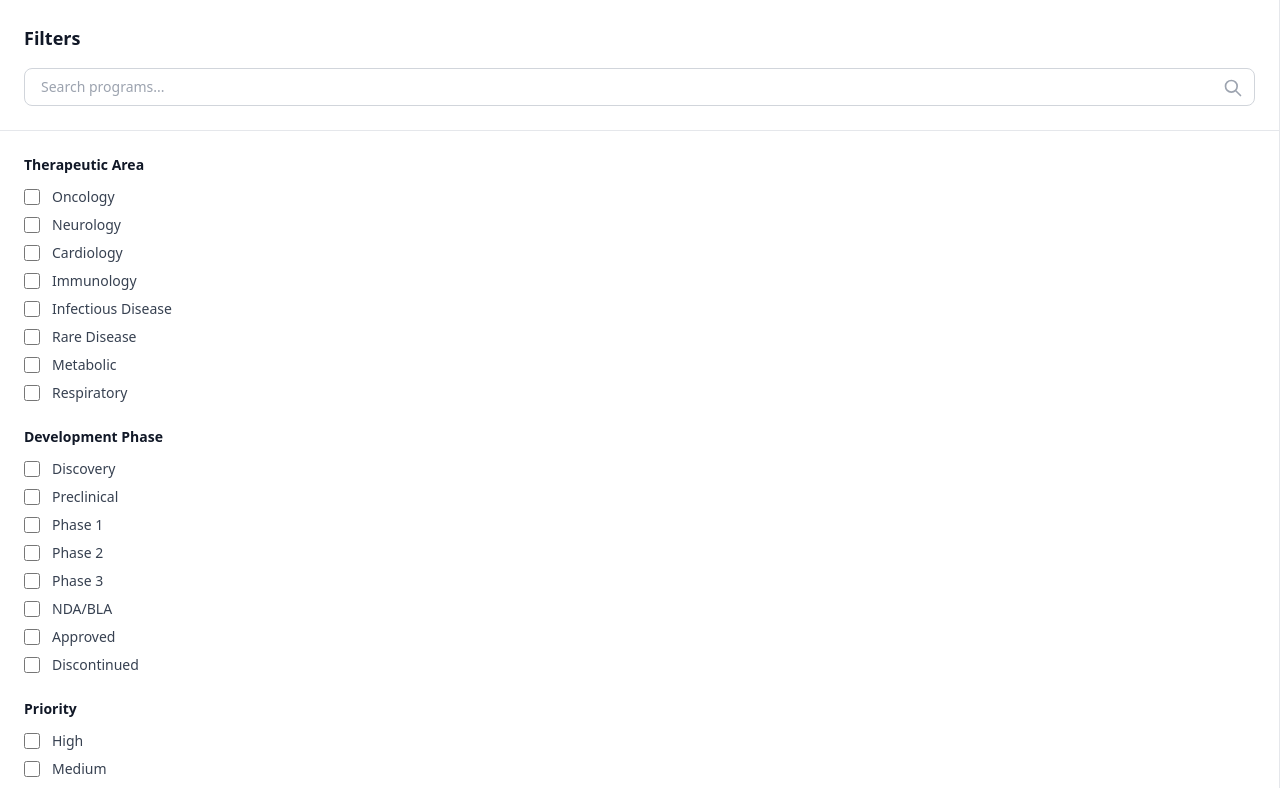
Scenario: FilterPanel all branches › toggles multiple therapeutic areas independently
# Toggle on
Click the text "Oncology": (83, 197) [52,187,115,207]
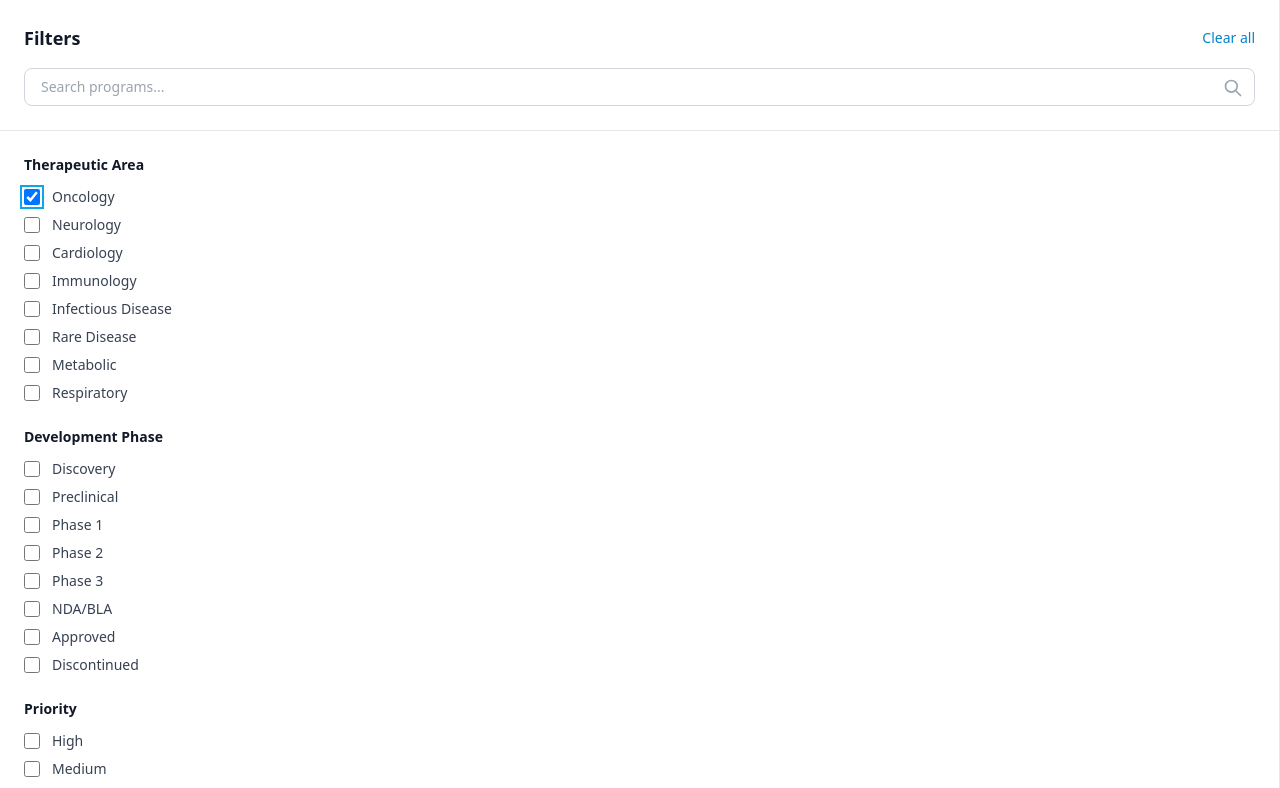
# Toggle on second
Click the text "Neurology": (86, 225) [52,215,121,235]
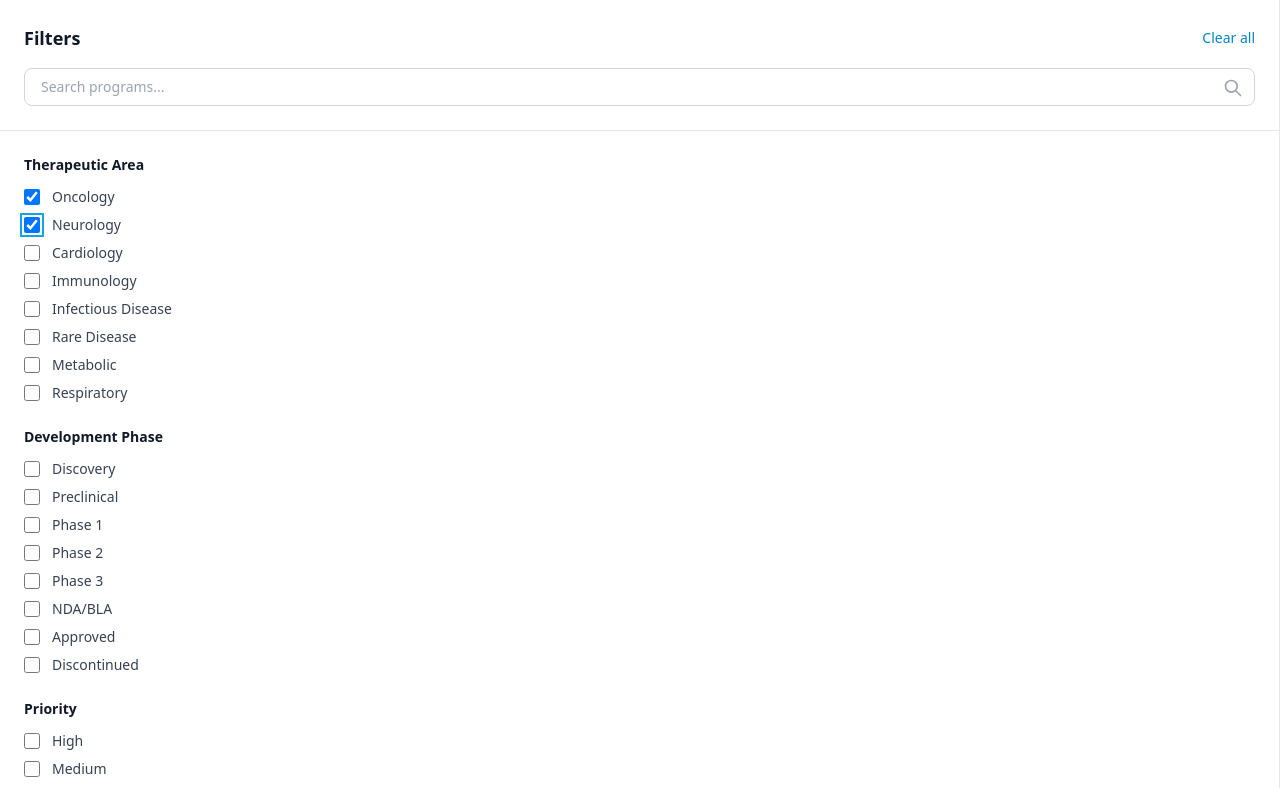
Check: the button "Clear all" is shown, box [1202,28,1255,48]
# Toggle off first
Click the text "Oncology": (83, 197) [52,187,115,207]
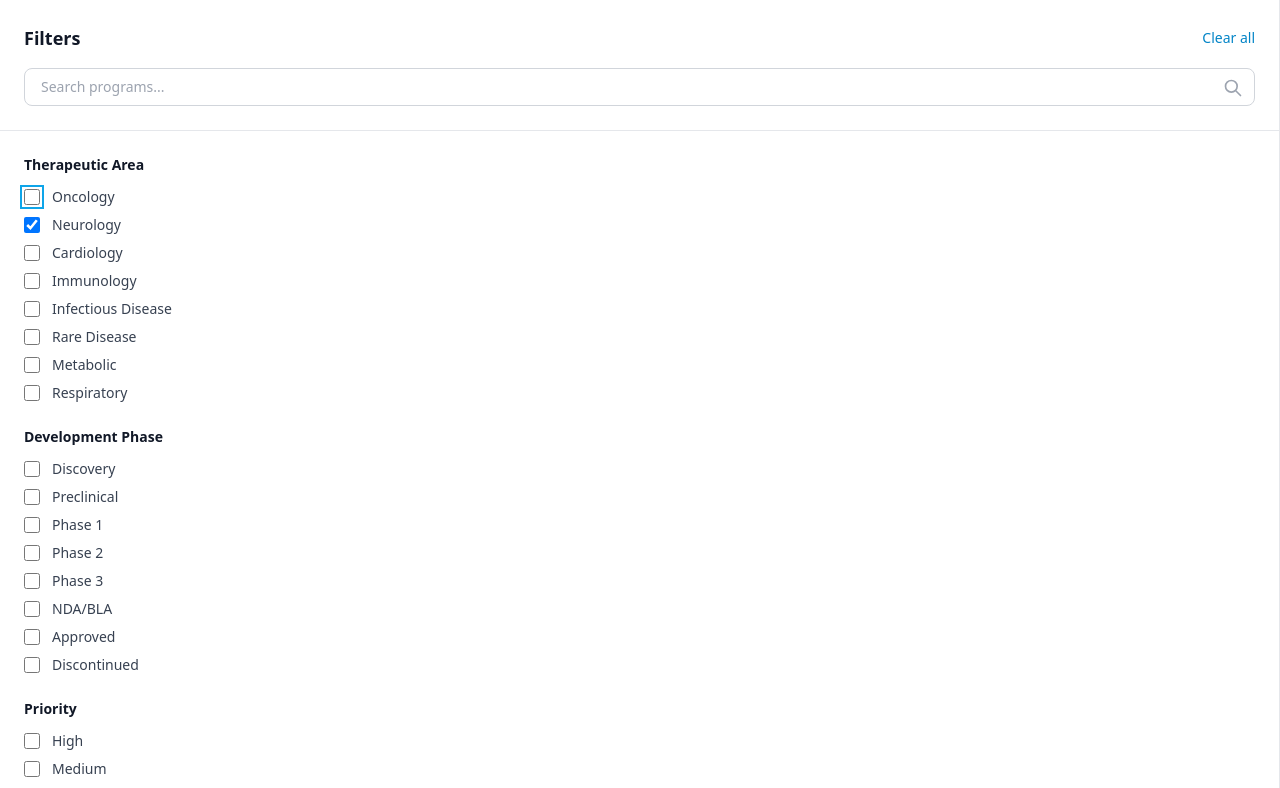
Check: the button "Clear all" is shown, box [1202,28,1255,48]
# Toggle off second
Click the text "Neurology": (86, 225) [52,215,121,235]
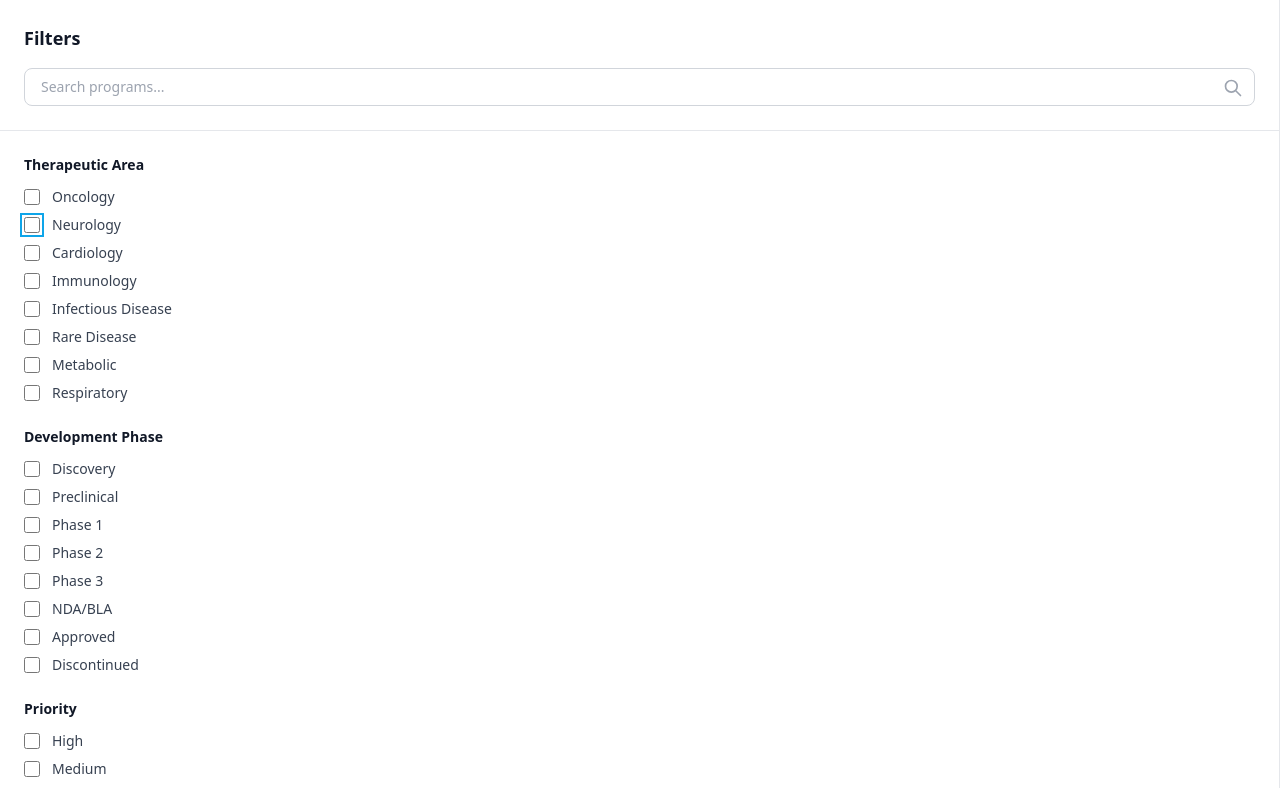
Check: the button "Clear all" is gone
